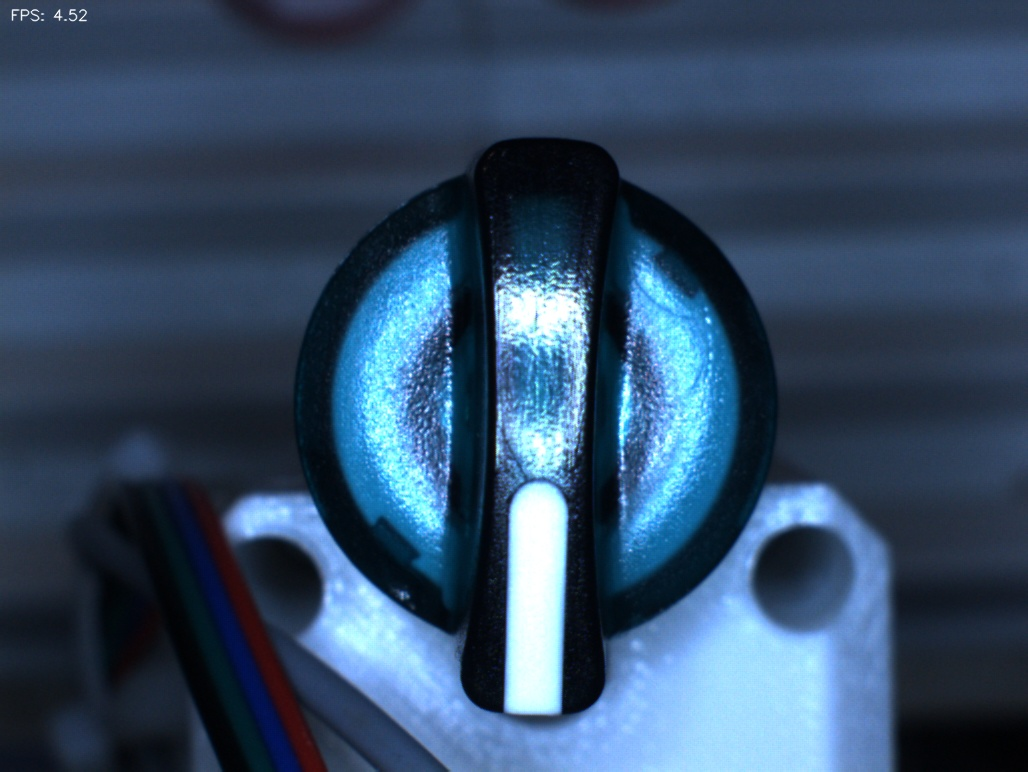Choc: (366, 553, 442, 629)
